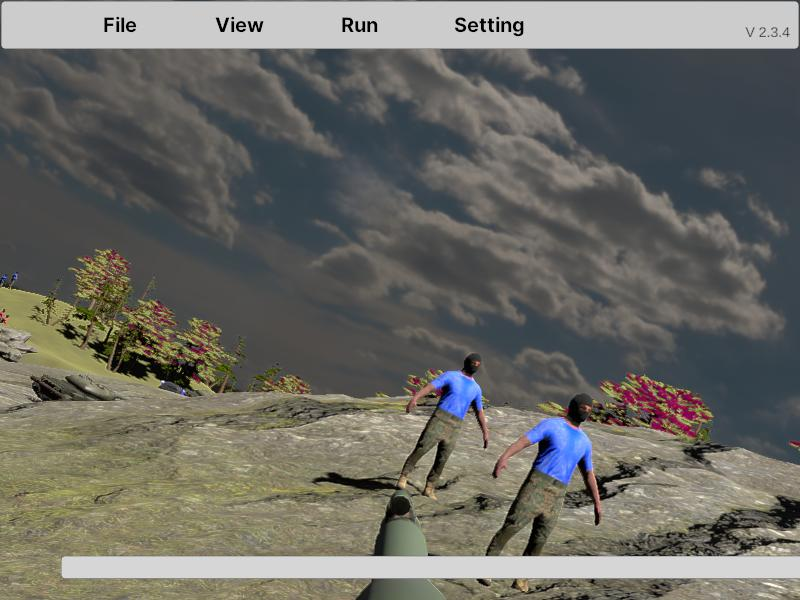Human: (486, 393, 602, 558), (398, 350, 489, 501)
